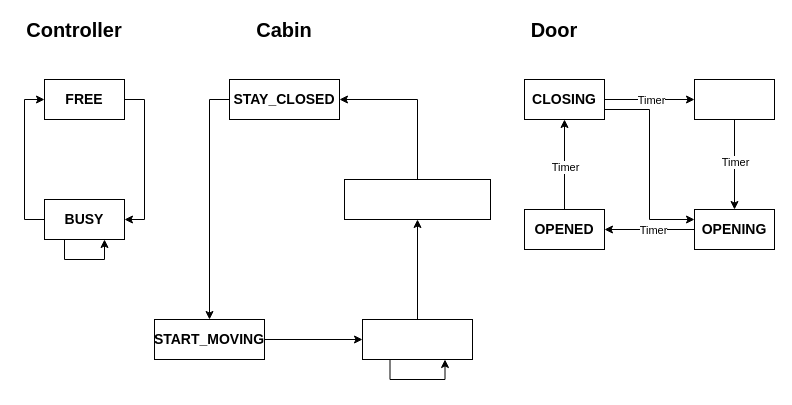
Some shapes in this 792 by 405 pixel diagram are drawn without their labels. Each missing label, with the box of its shape:
CLOSED: (694, 78, 774, 120)
MOVE: (362, 318, 472, 360)
STAY_NOT_CLOSED: (344, 178, 490, 220)
